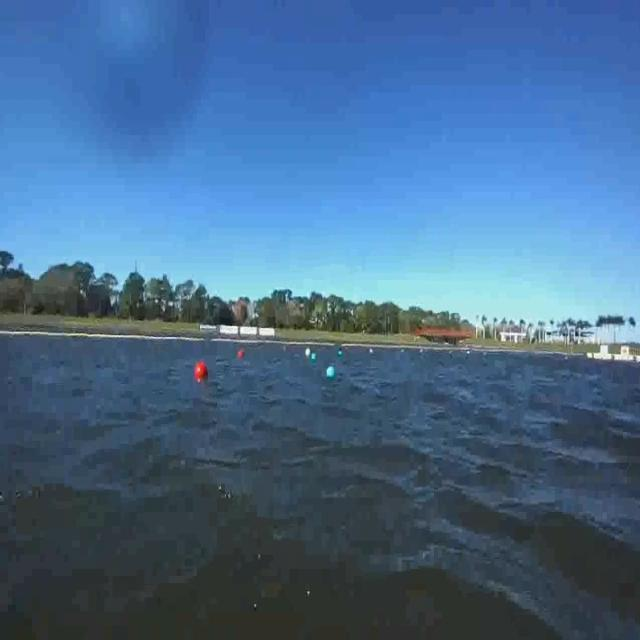red-buoy: (196, 360, 210, 380)
